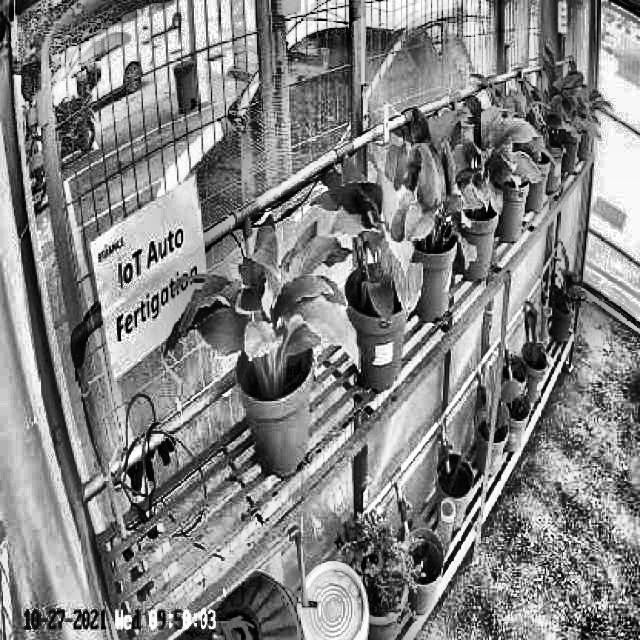plants: (166, 212, 360, 386), (320, 166, 426, 329), (422, 92, 542, 208), (384, 126, 480, 268)
